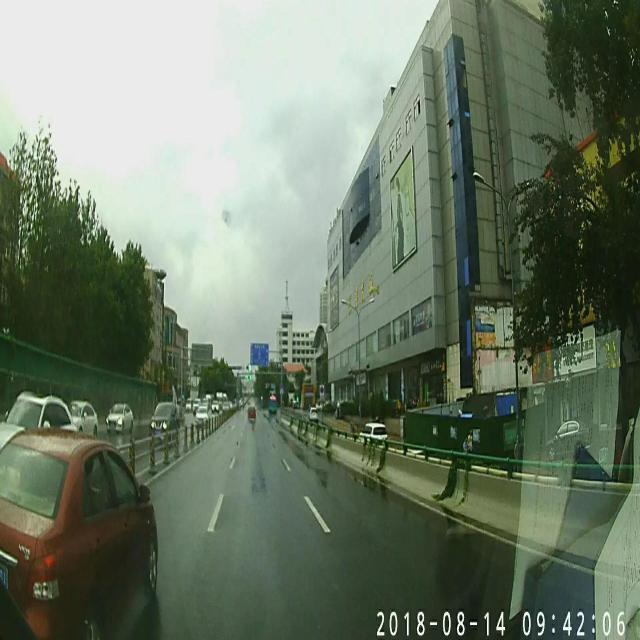car: (0, 432, 157, 640), (248, 406, 256, 419)
